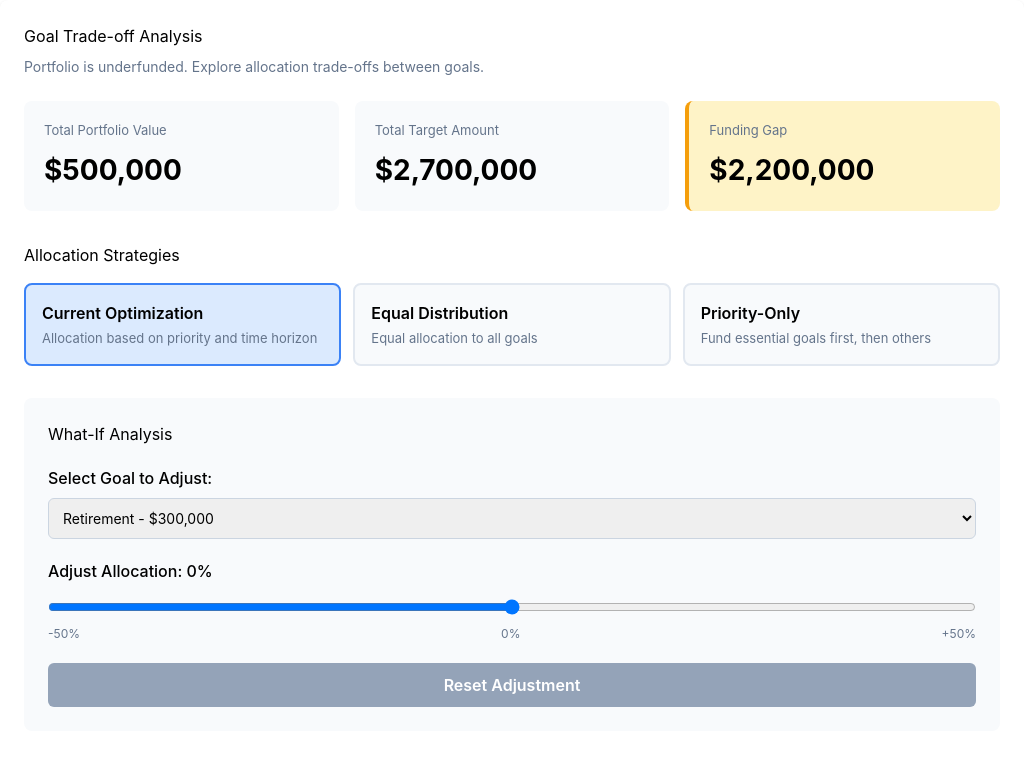
Test: TradeoffAnalysisChart › resets allocation adjustment
Step 1. Set the slider to "25" → (740, 607), box [48,599,976,615]
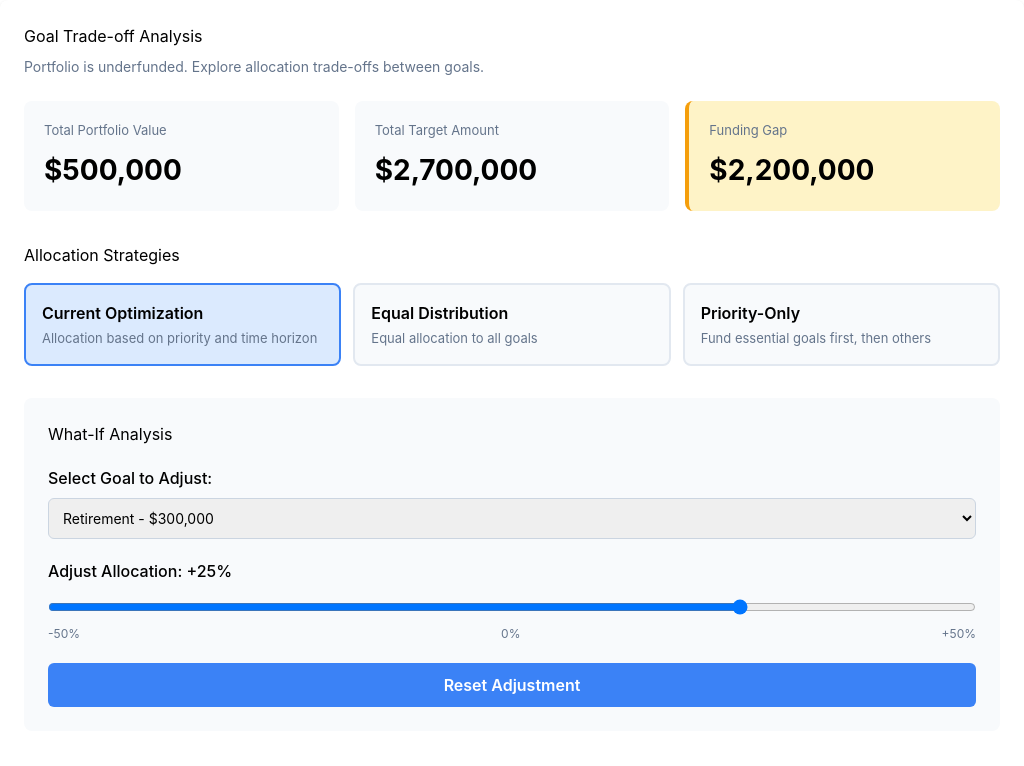
Step 2. Click the button "Reset Adjustment" → (512, 685), box [48,663,976,707]
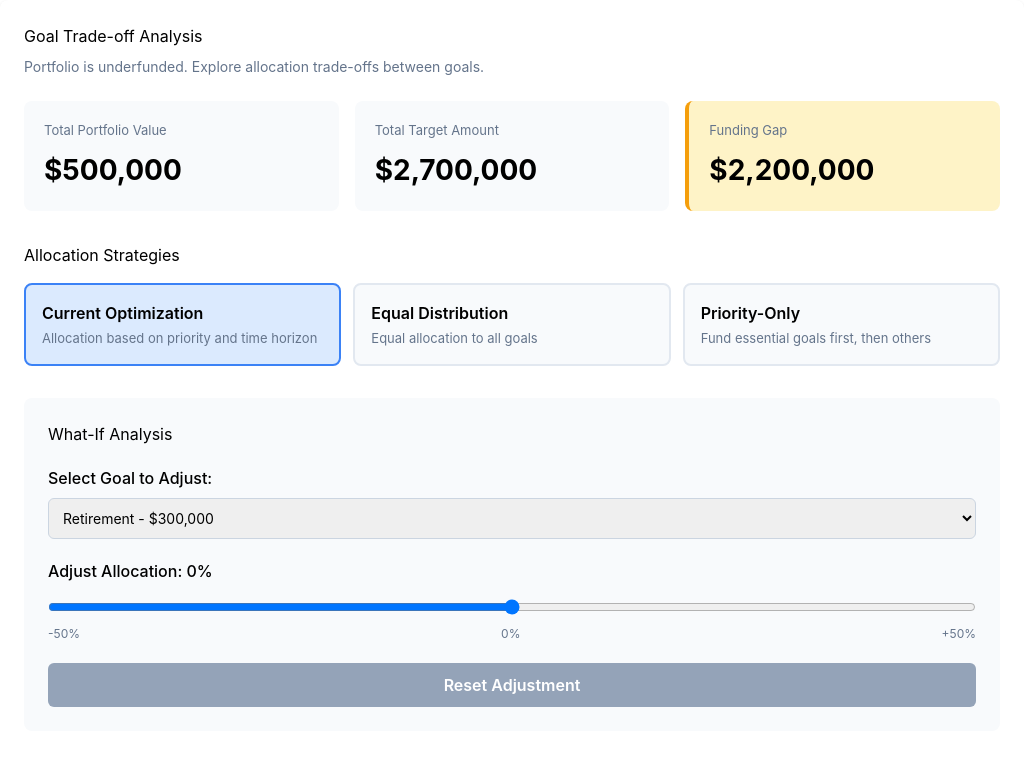
Now the slider holds "0", box [48,599,976,615]
